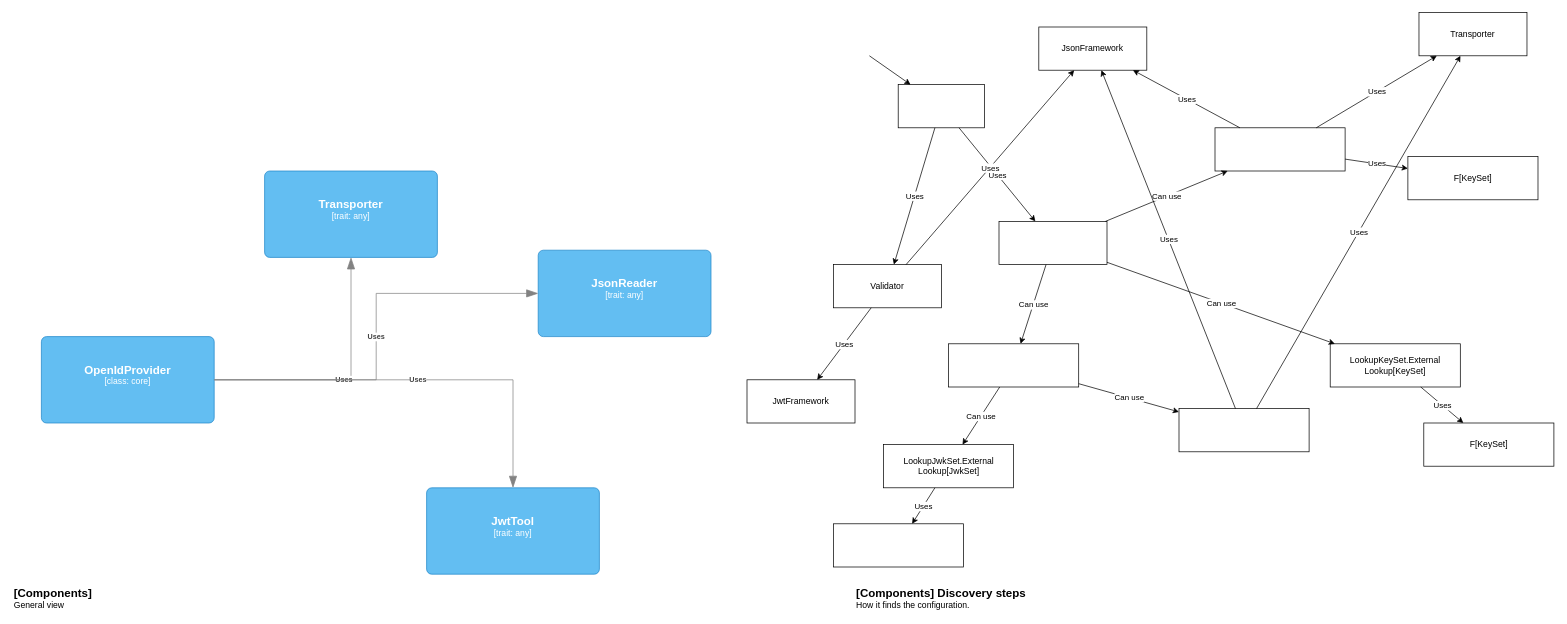
Image size: 1567x624. Some labels were removed from this diagram. Each missing label, with the centre of its shape:
Cache[KeySet]: the point at 1052,243
F[JwkSet]: the point at 898,545
LookupJwkSet.Remote Lookup[JwkKey]: the point at 1243,430
LookupKeySet.External: the point at 1279,149
LookupKeySet.FromJwkSet Lookup[KeySet]: the point at 1013,365
OpenIdProvider: the point at 941,106
